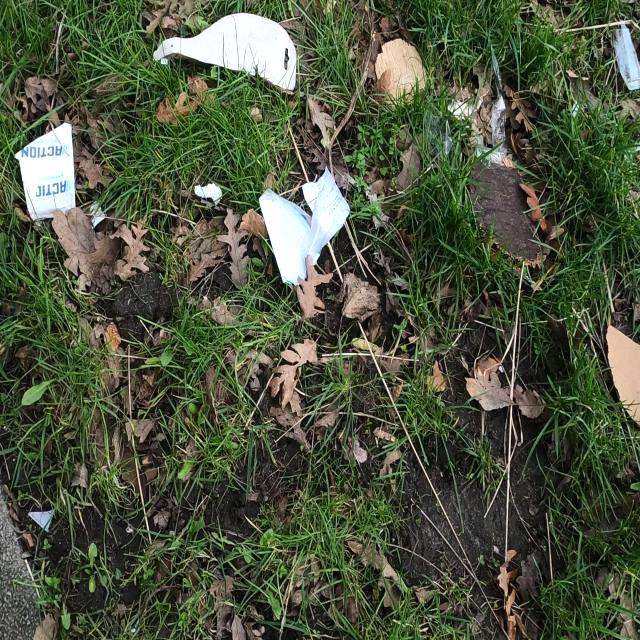Paper: (13, 117, 79, 226)
